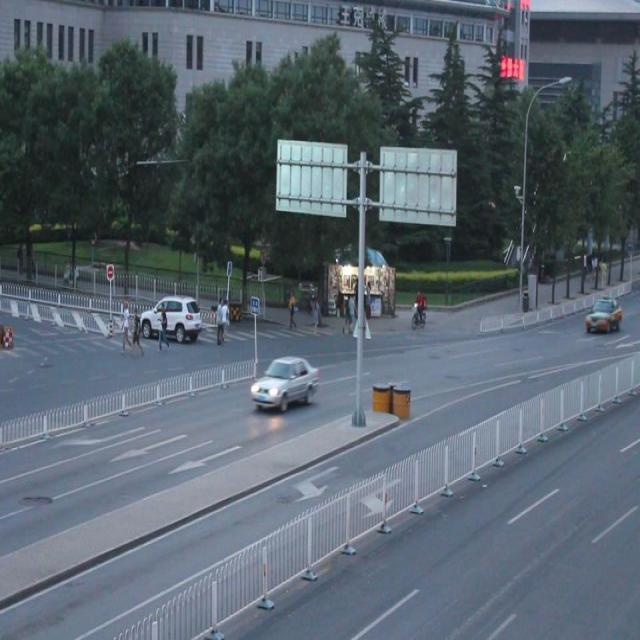car: (251, 355, 321, 411), (140, 296, 201, 342), (585, 295, 620, 337)
